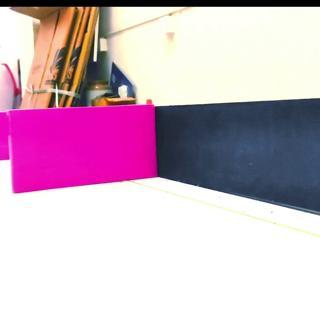xparking: (11, 111, 153, 184)
